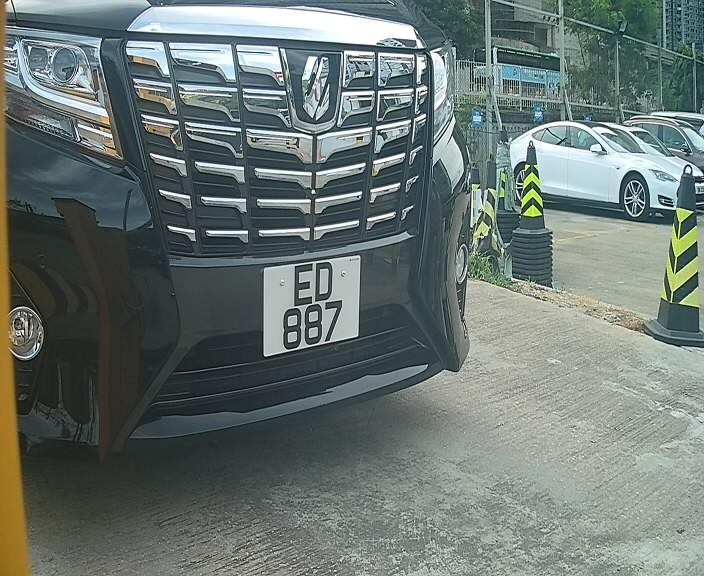License Plate: (255, 245, 368, 368)
